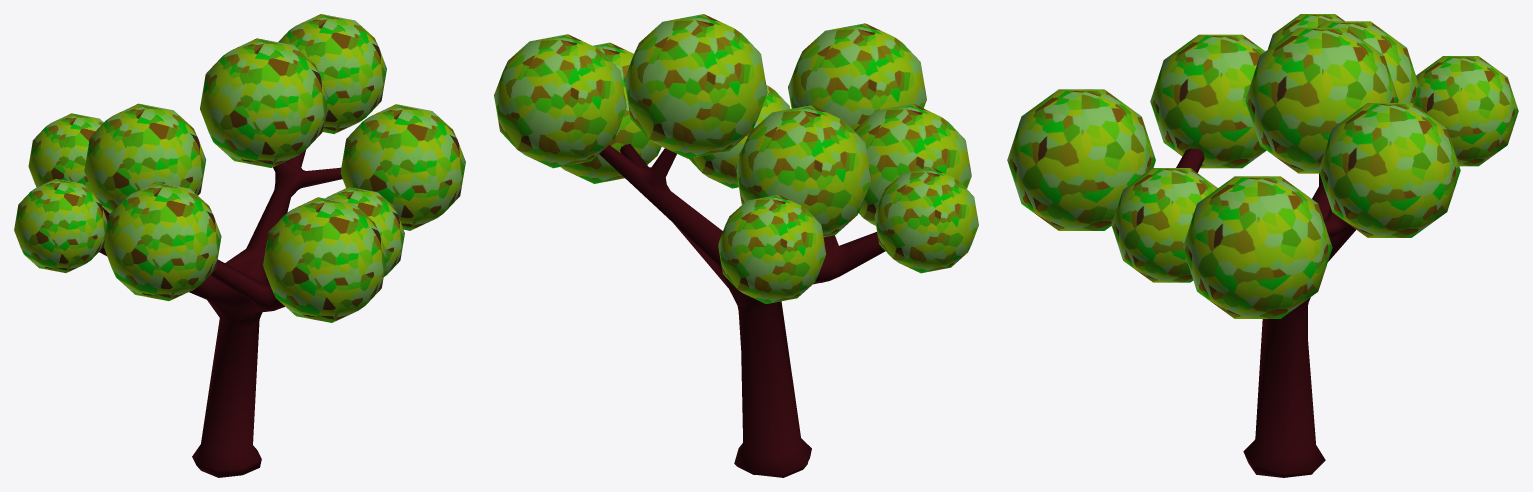
File: Tree_Park_2.fbx
3 renders of one model, left to right at view 1: azimuth 30°, elevation 25°; view 2: azimuth 150°, elevation 25°; view 3: azimuth 270°, elevation 25°, orthographic. The views are drawn at different scales.
Visible parts, largest first — view 1: Stem2, Leaf2.005, Leaf2.001, Leaf2.003, Leaf2, Leaf2.006, Leaf2.004, Leaf2.008, Leaf2.007, Leaf2.002; view 2: Stem2, Leaf2.005, Leaf2.004, Leaf2.006, Leaf2.001, Leaf2.007, Leaf2.008, Leaf2, Leaf2.003, Leaf2.002; view 3: Leaf2.003, Leaf2.001, Leaf2.004, Leaf2.005, Leaf2, Stem2, Leaf2.002, Leaf2.007, Leaf2.006, Leaf2.008.
Boxes of the visible parts, x1,y1,x2,y2 form: Stem2: (99,150,342,477); Leaf2.005: (200,38,328,167); Leaf2.001: (263,197,387,322); Leaf2.003: (340,104,465,230); Leaf2: (103,182,221,300); Leaf2.006: (84,103,205,213); Leaf2.004: (278,14,386,133); Leaf2.008: (14,178,107,272); Leaf2.007: (28,113,103,192); Leaf2.002: (325,187,404,276); Stem2: (599,144,885,477); Leaf2.005: (624,14,767,158); Leaf2.004: (494,34,626,168); Leaf2.006: (735,105,871,237); Leaf2.001: (788,23,926,130); Leaf2.007: (718,195,826,303); Leaf2.008: (874,167,978,273); Leaf2: (854,103,971,225); Leaf2.003: (560,42,661,183); Leaf2.002: (689,85,790,188); Leaf2.003: (1182,176,1332,318); Leaf2.001: (1007,89,1155,230); Leaf2.004: (1318,103,1460,237); Leaf2.005: (1245,27,1398,173); Leaf2: (1150,34,1266,168); Stem2: (1176,148,1355,477); Leaf2.002: (1111,168,1217,282); Leaf2.007: (1416,56,1518,166); Leaf2.006: (1317,21,1420,105); Leaf2.008: (1267,14,1344,49).
Bounding box in the file's own units: 7.31 × 6.76 × 6.78.
Materials: 2 (1 with a texture image).
